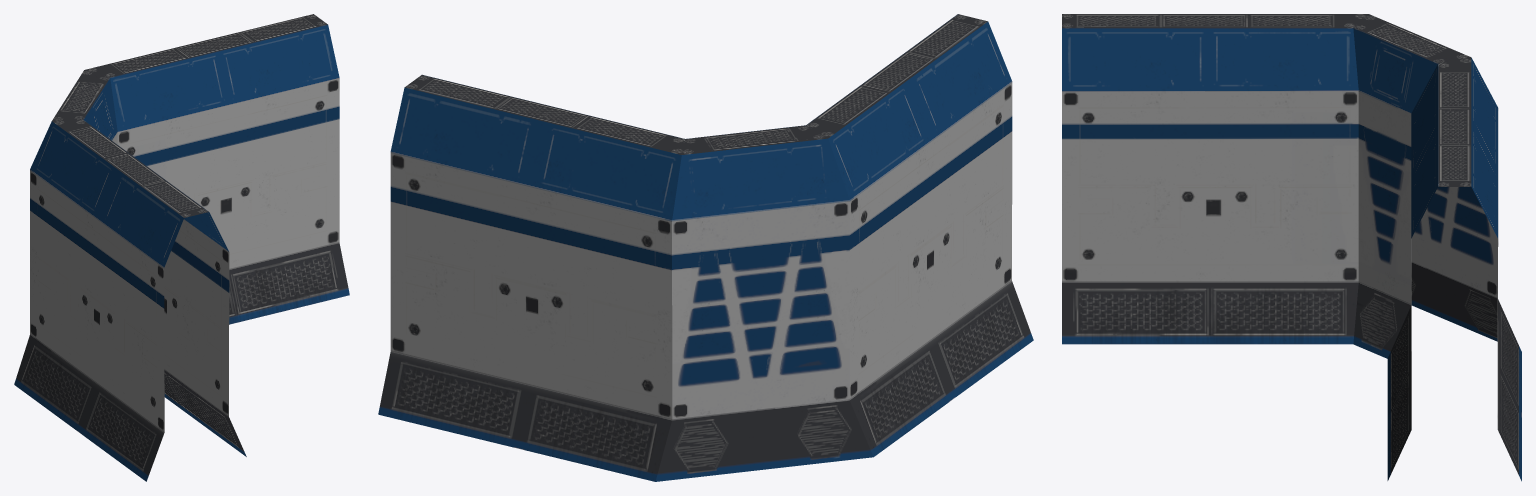
File: Wall_angle_1_Sci_Fi.fbx
3 renders of one model, left to right at view 1: azimuth 30°, elevation 25°; view 2: azimuth 150°, elevation 25°; view 3: azimuth 270°, elevation 25°, orthographic. The views are drawn at different scales.
Parts seen in each view (by area): view 1: Sci_Fi_wall_angle_1; view 2: Sci_Fi_wall_angle_1; view 3: Sci_Fi_wall_angle_1.
Part boxes in pixels (left/top/right/bottom): Sci_Fi_wall_angle_1: left=14, top=14, right=349, bottom=481; Sci_Fi_wall_angle_1: left=378, top=14, right=1033, bottom=481; Sci_Fi_wall_angle_1: left=1062, top=14, right=1521, bottom=481.
Bounding box in the file's own units: 558 × 395 × 558.
